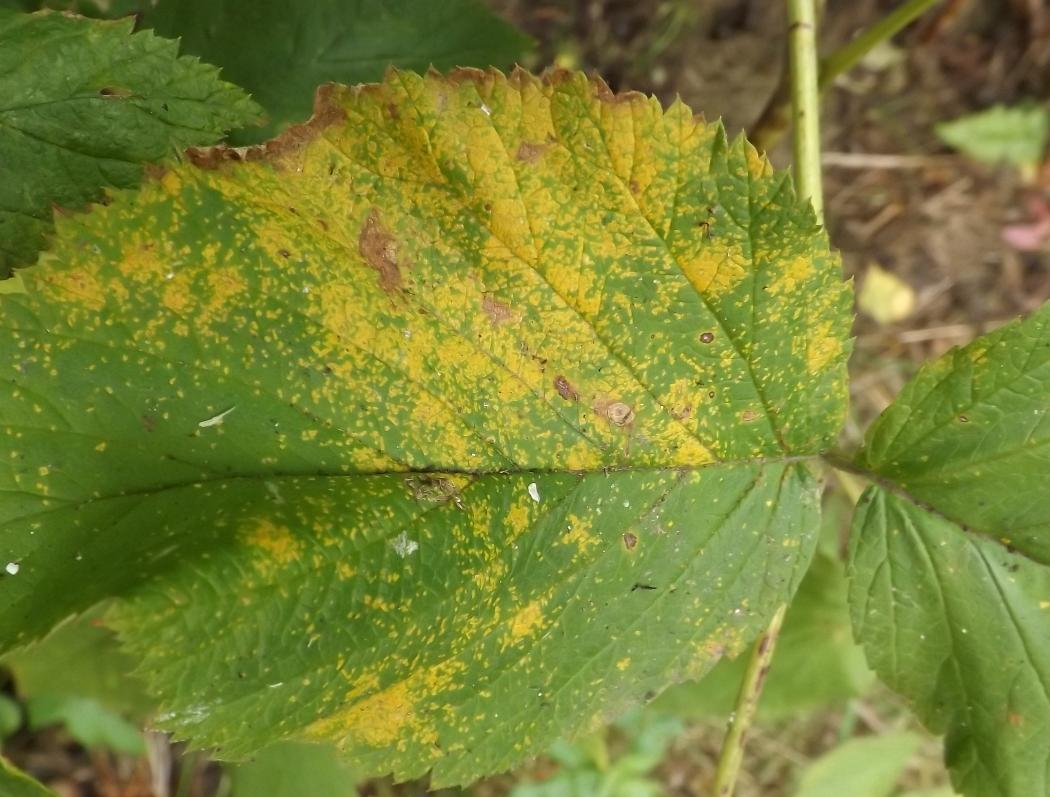Raspberry leaf: (1, 61, 874, 765)
